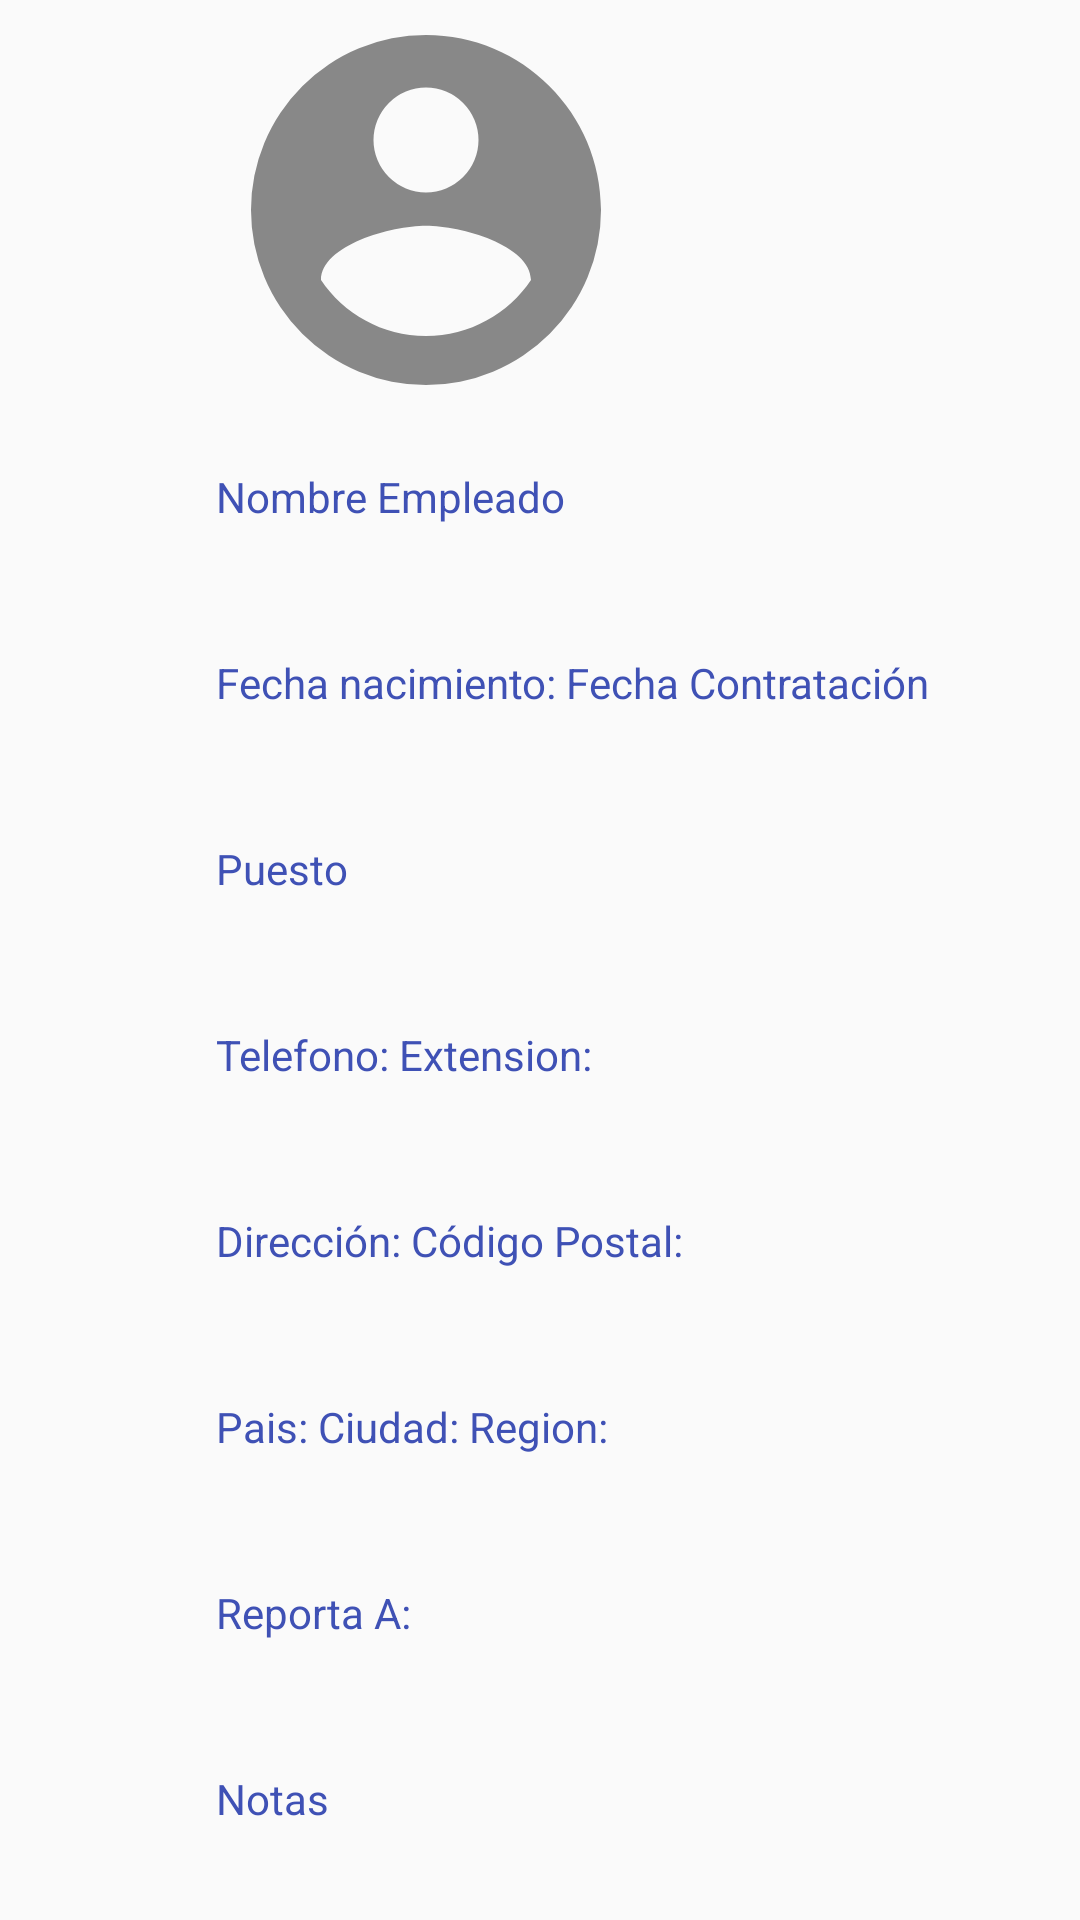

Point at icon controls on the screen. Image size 1080x1920, points as (x,y).
account circle: (426,210)
